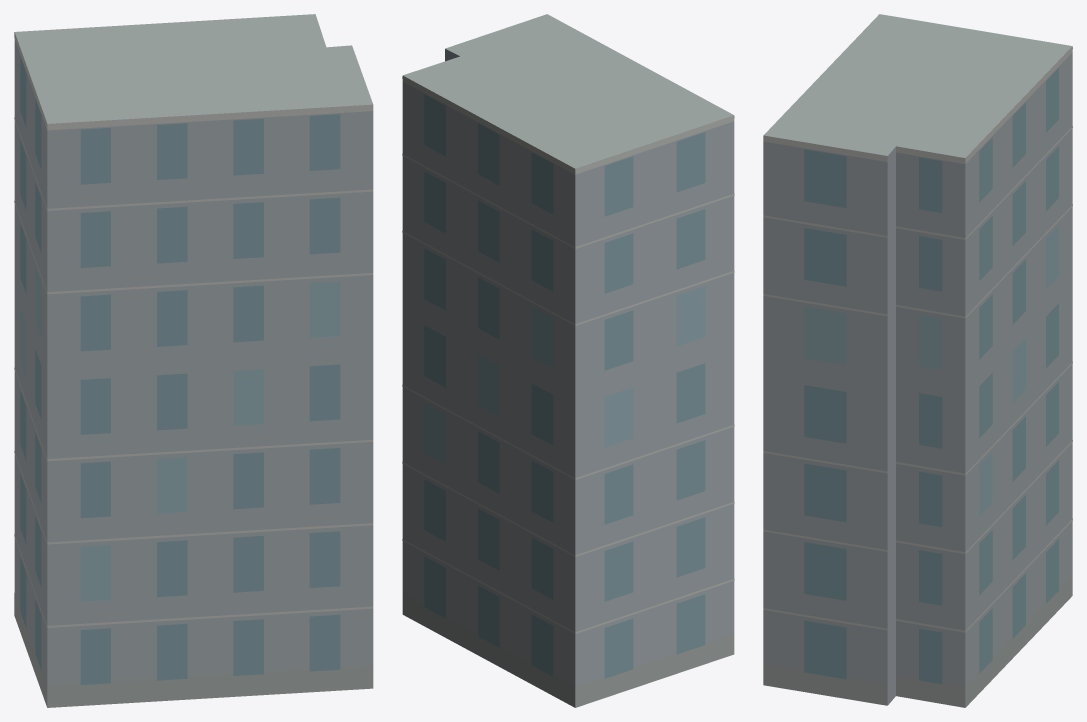
The model's file is survey-upis-32560923.glb.
The picture shows the model from 3 angles, left to right: view 1: azimuth 30°, elevation 25°; view 2: azimuth 150°, elevation 25°; view 3: azimuth 270°, elevation 25°; orthographic projection. The views are drawn at different scales.
Visible parts, largest first — view 1: survey-upis-32560923.tmp; view 2: survey-upis-32560923.tmp; view 3: survey-upis-32560923.tmp.
Boxes of the visible parts, x1=… form: survey-upis-32560923.tmp: x1=14, y1=14, x2=373, y2=707; survey-upis-32560923.tmp: x1=402, y1=14, x2=734, y2=707; survey-upis-32560923.tmp: x1=763, y1=14, x2=1072, y2=707.
Size of the model in its own units: 12.39 by 22 by 11.24.
